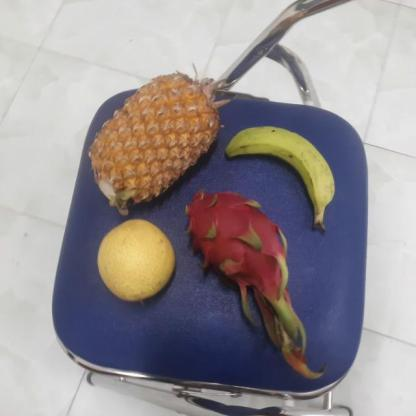banana: (220, 125, 334, 224)
pear: (94, 221, 176, 302)
pineapple: (86, 76, 220, 210)
pitaya: (178, 190, 292, 300)
